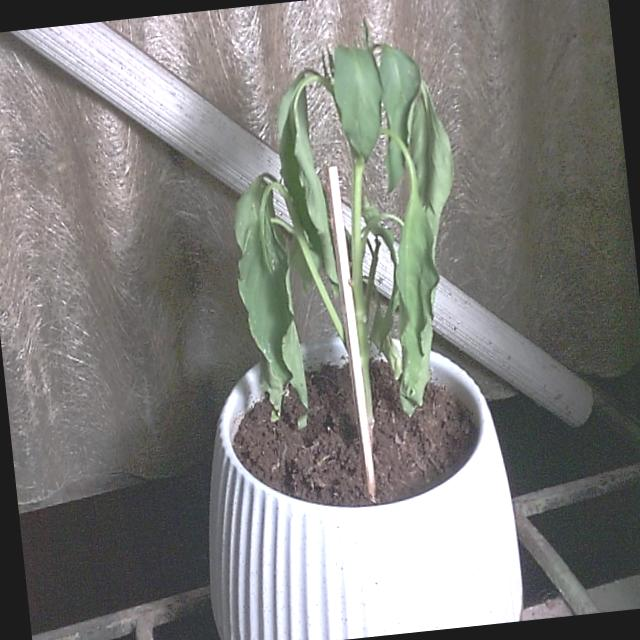Leaf: (224, 166, 318, 420), (376, 180, 452, 411), (266, 72, 342, 290), (326, 34, 388, 167)
